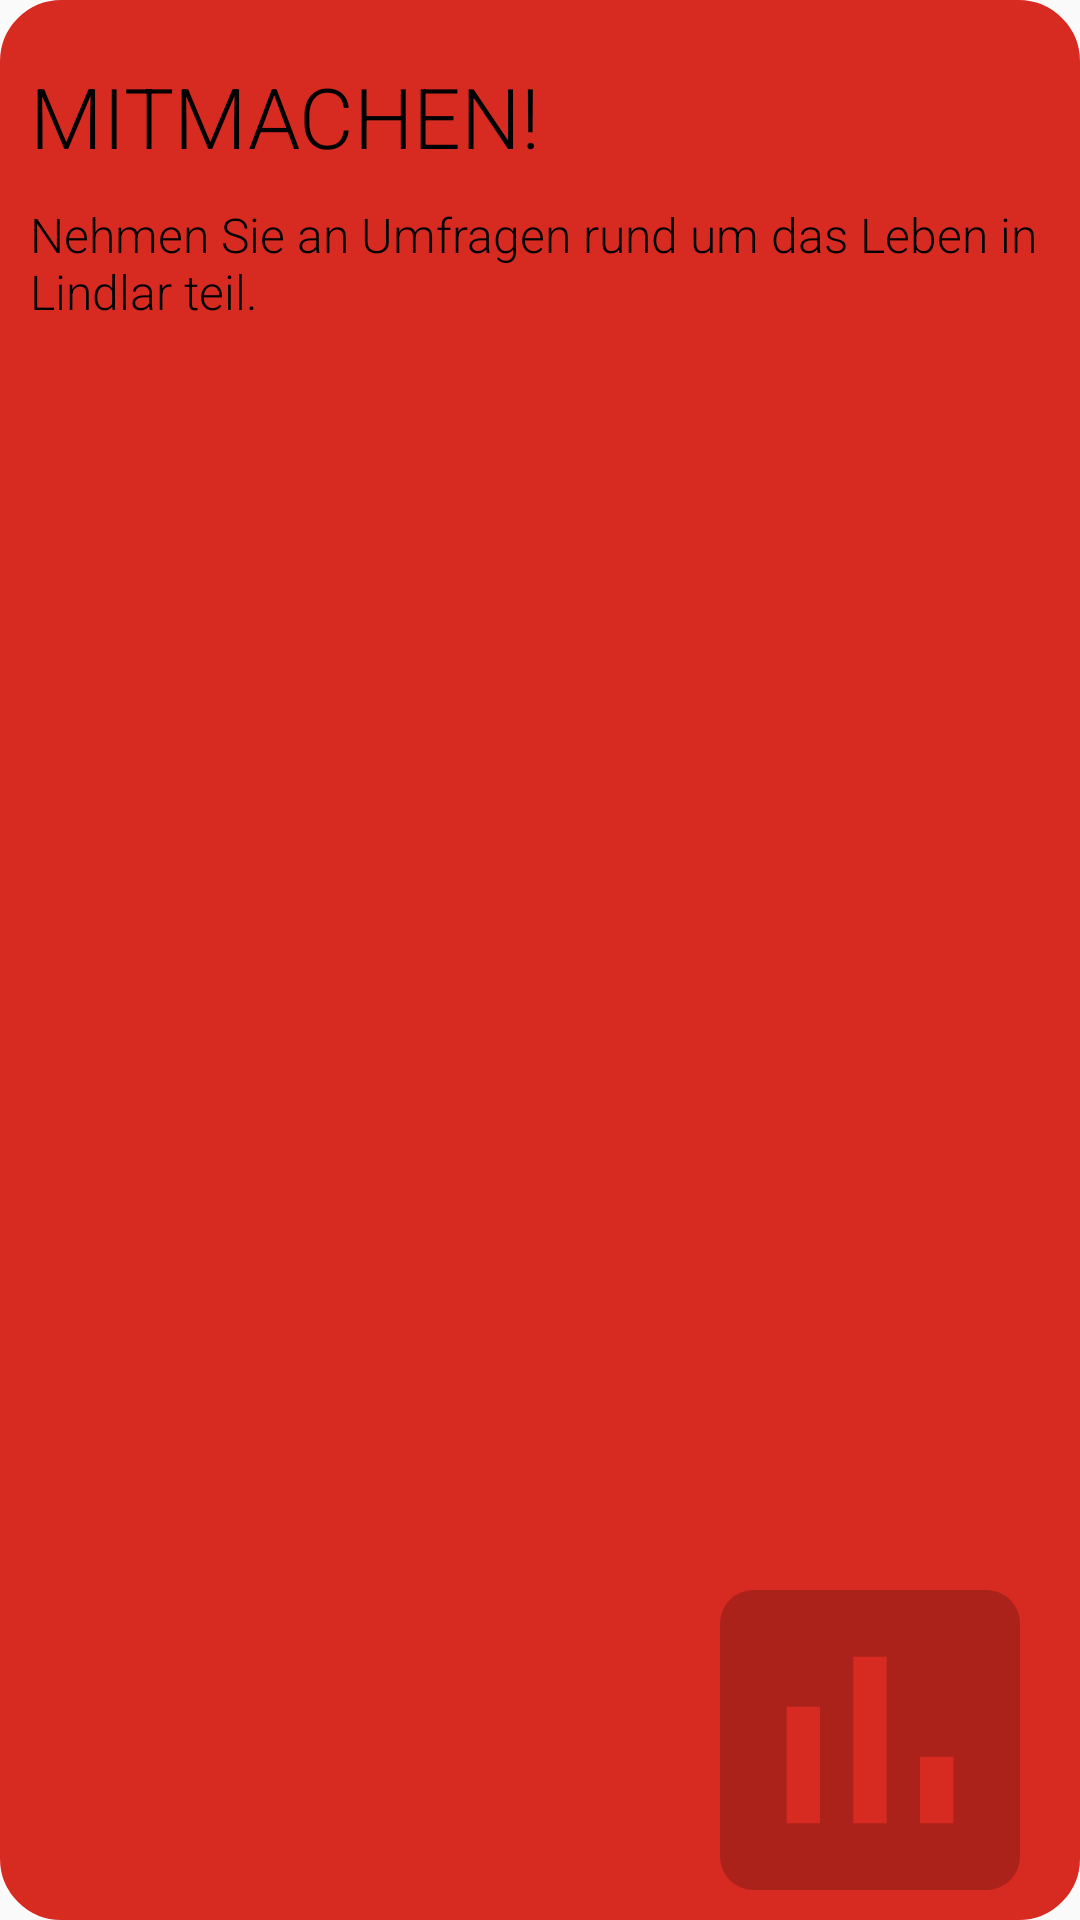

Icon click points for this 1080*1920 phone screenshot, format [x,y]:
survey: [870,1740]
